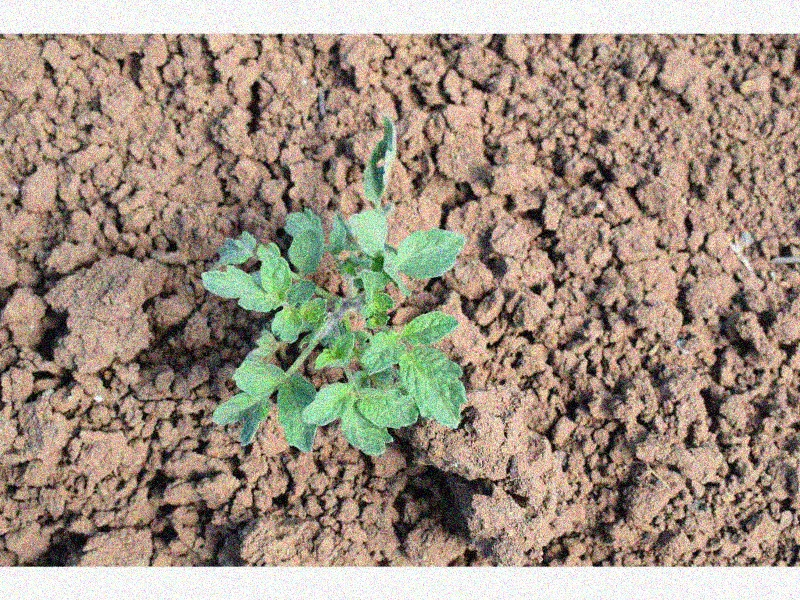tomato: (199, 112, 466, 456)
